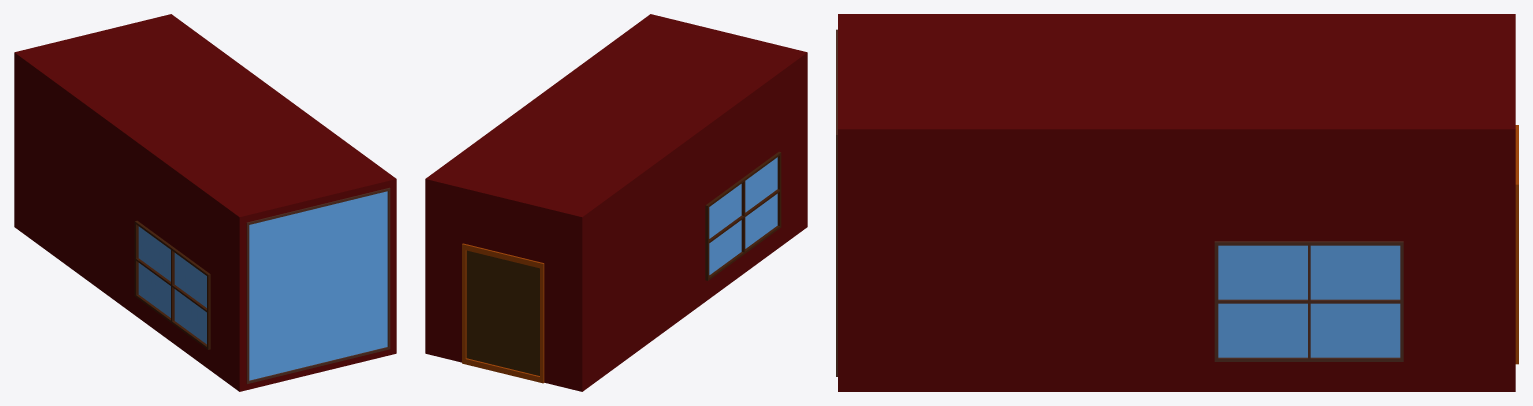
The model's file is container_woning.fbx.
3 views of the same model, side by side, from view 1: azimuth 30°, elevation 25°; view 2: azimuth 150°, elevation 25°; view 3: azimuth 270°, elevation 25° (orthographic). The views are drawn at different scales.
Parts seen in each view (by area): view 1: Cube, Cube.004, Cube.002; view 2: Cube, Cube.001, Cube.002; view 3: Cube, Cube.003, Cube.001, Cube.004.
Part boxes in pixels (x1,y1,x2,y2): Cube: [14, 14, 396, 391]; Cube.004: [246, 187, 390, 383]; Cube.002: [134, 220, 210, 349]; Cube: [425, 14, 807, 391]; Cube.001: [462, 243, 544, 383]; Cube.002: [705, 151, 781, 280]; Cube: [838, 14, 1515, 391]; Cube.003: [1214, 241, 1403, 361]; Cube.001: [1515, 125, 1518, 364]; Cube.004: [836, 29, 837, 376].
Size of the model in its own units: 250 by 259 by 610.
